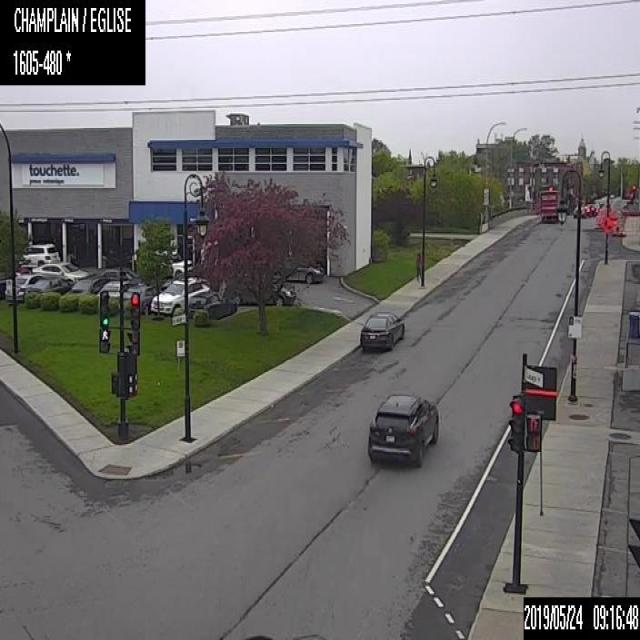construction: (601, 213, 614, 235), (594, 214, 598, 228), (598, 214, 602, 228)
pedestrian: (414, 251, 422, 288)
vehicle: (366, 391, 439, 466), (150, 276, 210, 316), (359, 308, 406, 352), (232, 277, 295, 303), (188, 290, 237, 318), (5, 273, 46, 302), (122, 284, 162, 313), (283, 255, 324, 283), (32, 260, 88, 280), (19, 242, 60, 268), (154, 249, 192, 276), (24, 276, 74, 296), (98, 266, 142, 284), (68, 276, 110, 294), (539, 189, 559, 223), (96, 279, 131, 296), (582, 203, 594, 215), (572, 205, 584, 217), (0, 277, 6, 297)
